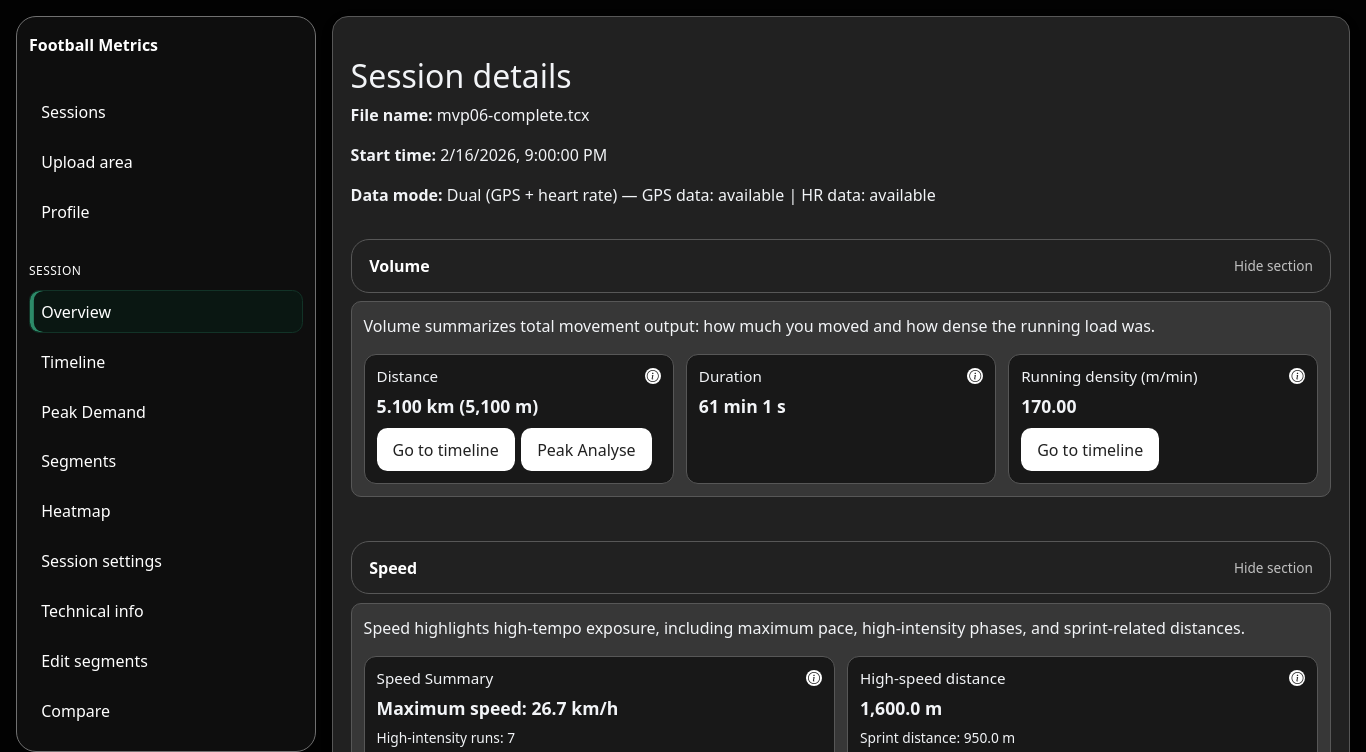
Scenario: App › Mvp06_Ac01_Ac02_displays_base_metrics_including_gps_availability
Expected: the heading "Session details" is shown, [351,54,572,97]
Expected: the text "61 min 1 s" is shown, [699,394,786,418]
Click the button "Technical info". click: (92, 611)
box: [29,590,303,633]
(page scrolled)
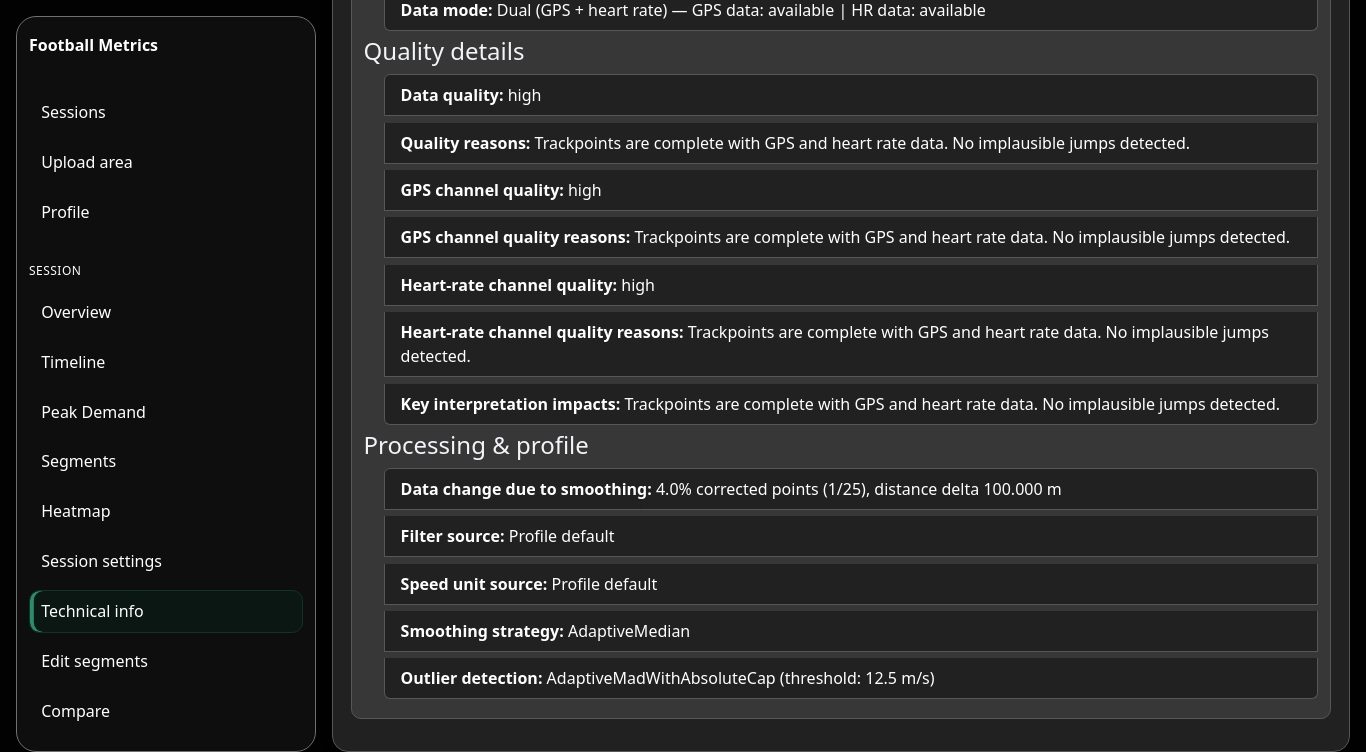
Now the text "Smoothing strategy:" is shown, box [401,620,564,642]
